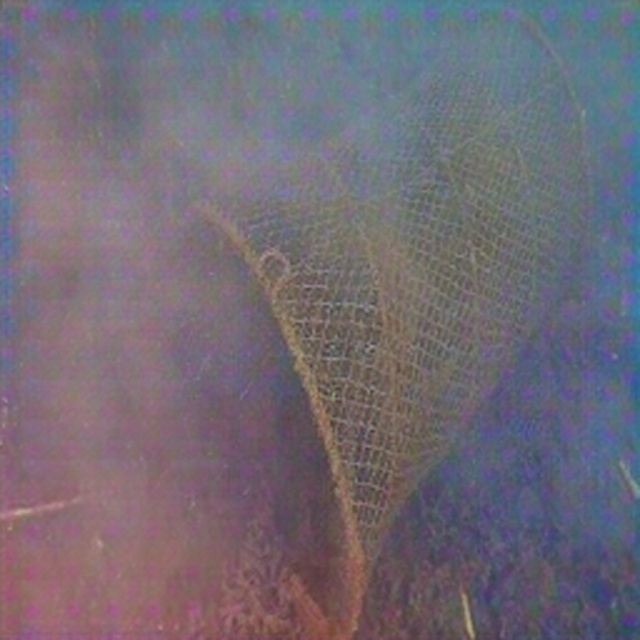mine: (178, 5, 593, 640)
